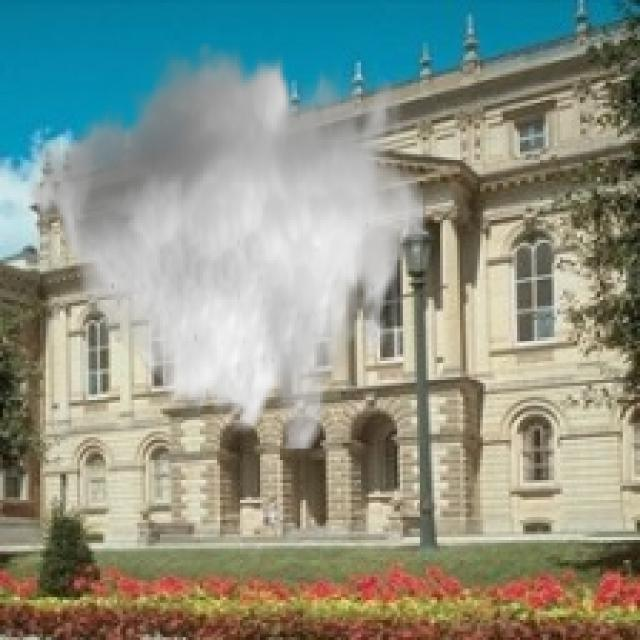Smoke: (23, 42, 426, 452)
